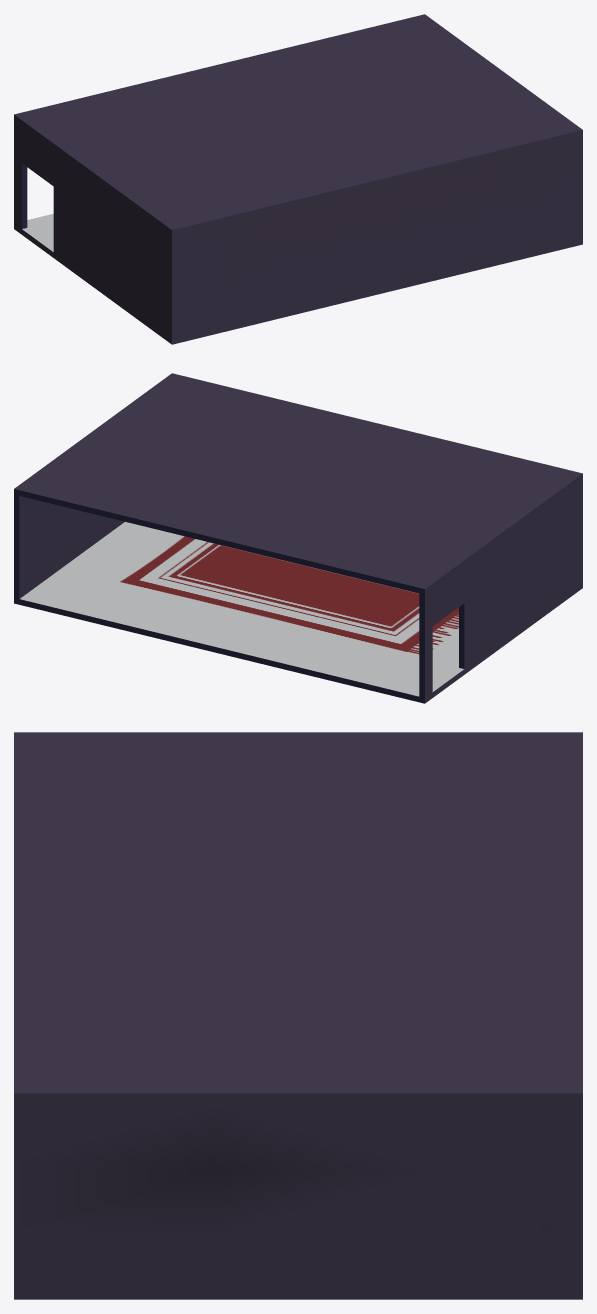
Rendered from ballRoom_1up.fbx.
3 views of the same model, one above another, from view 1: azimuth 30°, elevation 25°; view 2: azimuth 150°, elevation 25°; view 3: azimuth 270°, elevation 25° (orthographic). The views are drawn at different scales.
Parts seen in each view (by area): view 1: ballRoom_1up; view 2: ballRoom_1up; view 3: ballRoom_1up.
Boxes of the visible parts, x1,y1,x2,y2 form: ballRoom_1up: (14, 14, 582, 344); ballRoom_1up: (14, 373, 582, 703); ballRoom_1up: (14, 732, 582, 1299).
Size of the model in its own units: 1501 by 400 by 1000.
